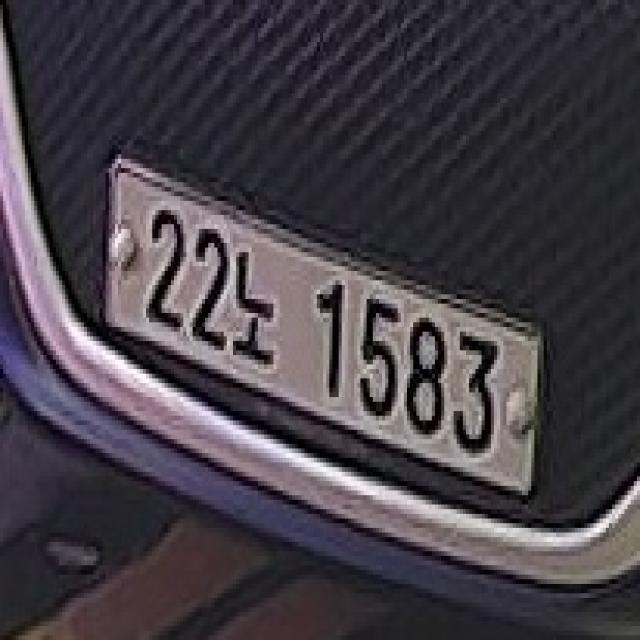1: (310, 270, 349, 407)
2: (139, 194, 188, 341), (190, 215, 230, 360)
3: (452, 317, 504, 474)
5: (353, 286, 404, 430)
8: (404, 305, 450, 449)
license_plate: (106, 158, 540, 497)
no: (234, 234, 278, 377)
